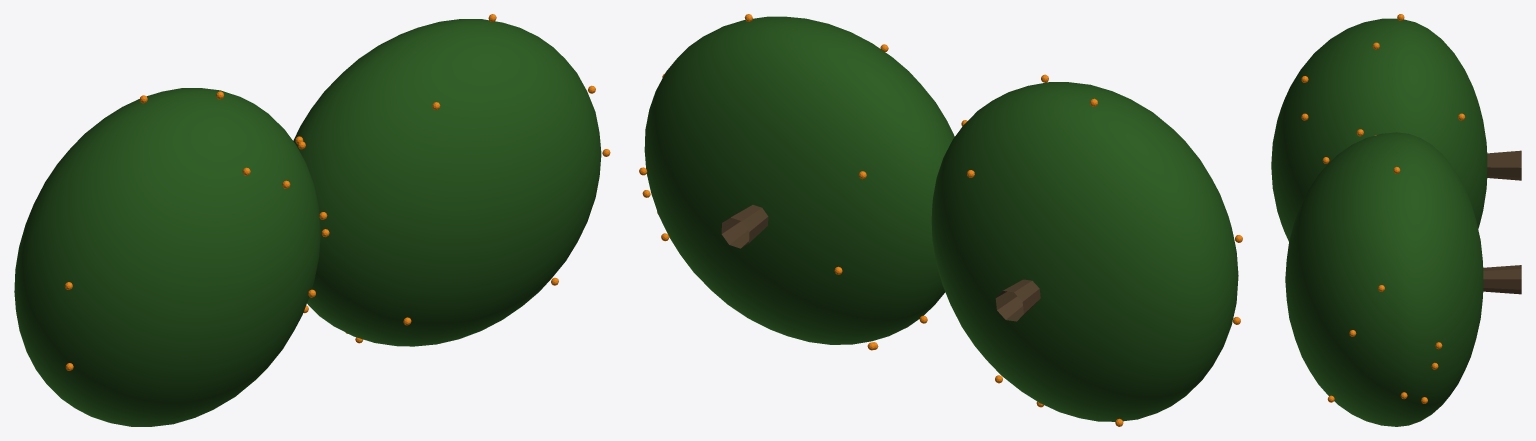
The model's file is citrus_plain2_e_fruit.obj.
3 renders of one model, left to right at view 1: azimuth 30°, elevation 25°; view 2: azimuth 150°, elevation 25°; view 3: azimuth 270°, elevation 25°, orthographic. The views are drawn at different scales.
Visible parts, largest first — view 1: canopy, fruit; view 2: canopy, trunk, fruit; view 3: canopy, trunk, fruit.
Part boxes in pixels (<box>): canopy: <box>14,19,601,426</box>; fruit: <box>64,14,610,370</box>; canopy: <box>644,16,1238,421</box>; trunk: <box>721,205,1040,321</box>; fruit: <box>639,14,1242,426</box>; canopy: <box>1271,18,1487,426</box>; trunk: <box>1483,150,1521,294</box>; fruit: <box>1301,14,1464,403</box>.
Size of the model in its own units: 6.22 by 3.33 by 2.66.
